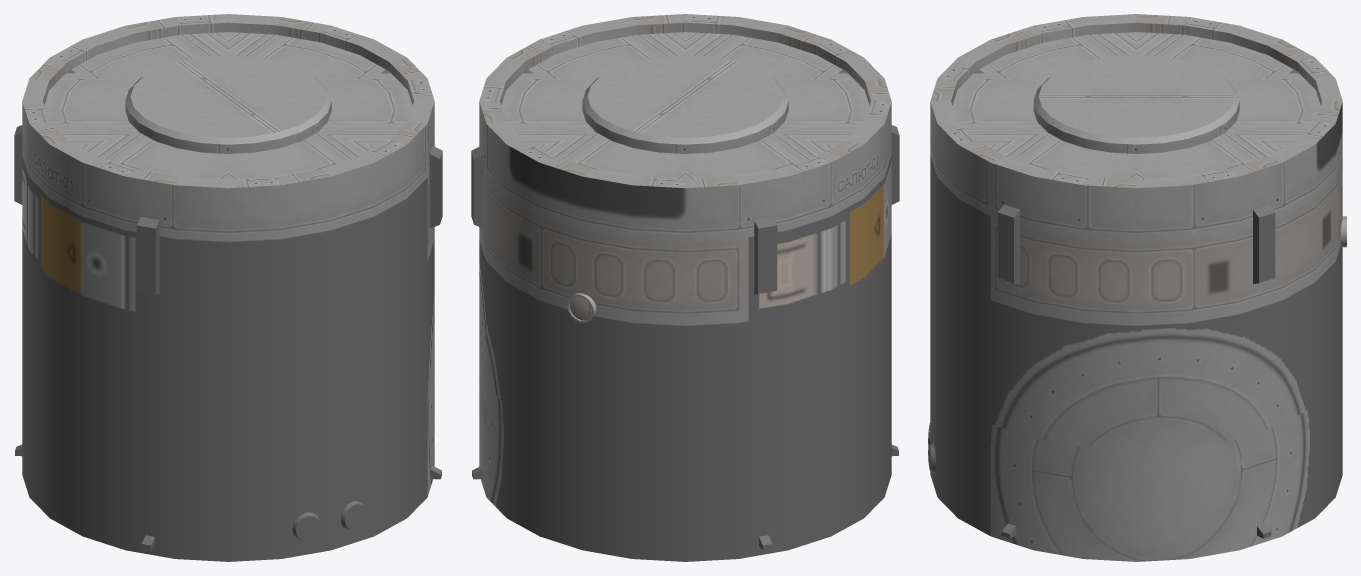
File: vega_crew_s2_1_1.obj
3 views of the same model, side by side, from view 1: azimuth 30°, elevation 25°; view 2: azimuth 150°, elevation 25°; view 3: azimuth 270°, elevation 25° (orthographic).
Parts seen in each view (by area): view 1: vega_crew_s2_1_1_vega_crew_s2_1_1_auv; view 2: vega_crew_s2_1_1_vega_crew_s2_1_1_auv; view 3: vega_crew_s2_1_1_vega_crew_s2_1_1_auv.
Boxes of the visible parts, x1,y1,x2,y2 form: vega_crew_s2_1_1_vega_crew_s2_1_1_auv: [14, 14, 442, 561]; vega_crew_s2_1_1_vega_crew_s2_1_1_auv: [471, 14, 899, 561]; vega_crew_s2_1_1_vega_crew_s2_1_1_auv: [928, 14, 1346, 561].
Bounding box in the file's own units: 2.5 × 2.56 × 2.54.
